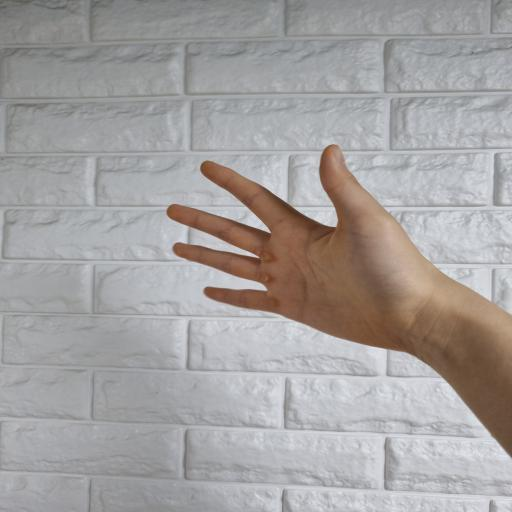Paper: (167, 145, 512, 460)
